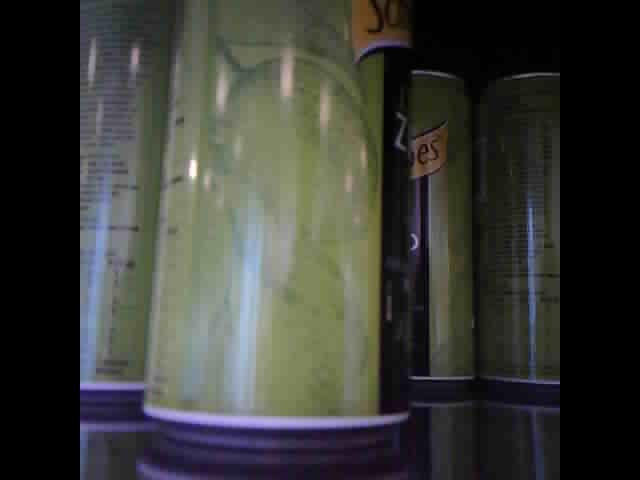schweppes: (141, 2, 410, 443), (80, 2, 167, 396), (480, 70, 561, 391), (407, 58, 471, 388)
